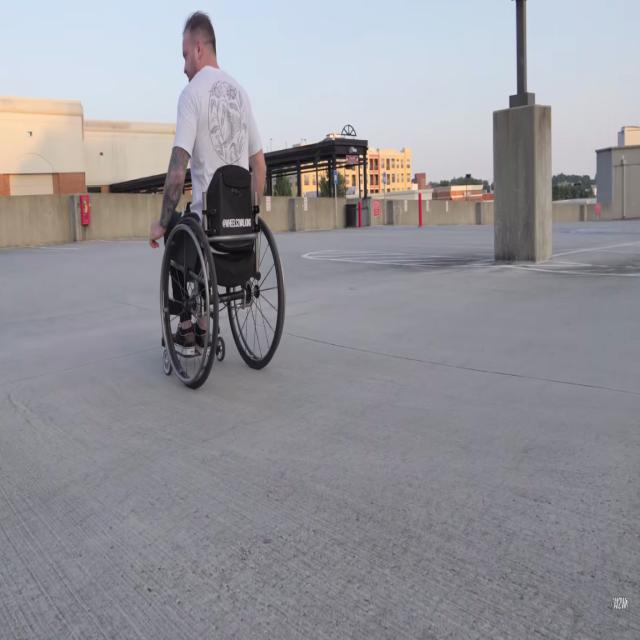wheelchairs: (156, 165, 286, 377)
